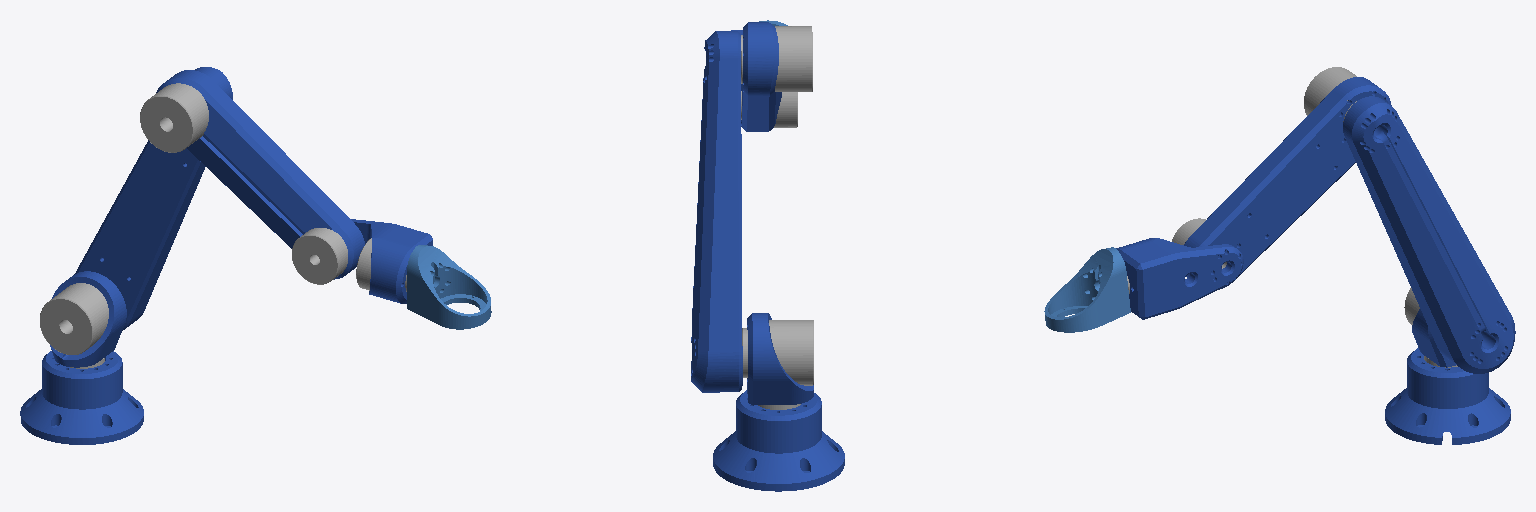
The robot description file, URDF, robot "vhit_robotics_rev_1":
<?xml version="1.0" ?>
<!-- =================================================================================== -->
<!-- |    This document was autogenerated by xacro from vhit_robotics_rev_1.urdf.xacro | -->
<!-- |    EDITING THIS FILE BY HAND IS NOT RECOMMENDED                                 | -->
<!-- =================================================================================== -->
<robot name="vhit_robotics_rev_1">
  <!-- Colors -->
  <material name="blue">
    <color rgba="0.231373 0.380392 0.705882 1"/>
  </material>
  <material name="grey">
    <color rgba="0.701961 0.701961 0.701961 1"/>
  </material>
  <material name="light_blue">
    <color rgba="0.32549 0.529412 0.752941 1"/>
  </material>
  <!-- WORLD FRAME -->
  <link name="world"/>
  <!-- BASE LINK -->
  <link name="base">
    <inertial>
      <origin rpy="0 0 0" xyz="0 0 0"/>
      <mass value="1.0"/>
      <inertia ixx="1.0" ixy="0" ixz="0" iyy="1.0" iyz="0" izz="1.0"/>
    </inertial>
    <!-- Part base -->
    <visual>
      <origin rpy="3.14159 0.0135592 -3.14159" xyz="0 -0.0605 0.03"/>
      <geometry>
        <mesh filename="package://vhit_robot_demo/meshes/base.stl"/>
      </geometry>
      <material name="blue"/>
    </visual>
    <collision>
      <origin rpy="3.14159 0.0135592 -3.14159" xyz="0 -0.0605 0.03"/>
      <geometry>
        <mesh filename="package://vhit_robot_demo/meshes/base.stl"/>
      </geometry>
    </collision>
    <!-- Part elac217_f -->
    <visual>
      <origin rpy="-1.5708 -0.0135592 0" xyz="0 -0.0605 0.03"/>
      <geometry>
        <mesh filename="package://vhit_robot_demo/meshes/elac217_f.stl"/>
      </geometry>
      <material name="grey"/>
    </visual>
    <collision>
      <origin rpy="-1.5708 -0.0135592 0" xyz="0 -0.0605 0.03"/>
      <geometry>
        <mesh filename="package://vhit_robot_demo/meshes/elac217_f.stl"/>
      </geometry>
    </collision>
  </link>
  <!-- SHOULDER LINK -->
  <link name="shoulder">
    <inertial>
      <origin rpy="0 0 0" xyz="0 0 0"/>
      <mass value="0.5"/>
      <inertia ixx="1.0" ixy="0" ixz="0" iyy="1.0" iyz="0" izz="1.0"/>
    </inertial>
    <!-- Part elac217_b -->
    <visual>
      <origin rpy="1.5708 1.5708 0" xyz="0 -0.032 -0.056125"/>
      <geometry>
        <mesh filename="package://vhit_robot_demo/meshes/elac217_b.stl"/>
      </geometry>
      <material name="grey"/>
    </visual>
    <collision>
      <origin rpy="1.5708 1.5708 0" xyz="0 -0.032 -0.056125"/>
      <geometry>
        <mesh filename="package://vhit_robot_demo/meshes/elac217_b.stl"/>
      </geometry>
    </collision>
    <!-- Part shoulder -->
    <visual>
      <origin rpy="-1.5708 -0 -0" xyz="0 -0.032 -0.056125"/>
      <geometry>
        <mesh filename="package://vhit_robot_demo/meshes/shoulder.stl"/>
      </geometry>
      <material name="blue"/>
    </visual>
    <collision>
      <origin rpy="-1.5708 -0 -0" xyz="0 -0.032 -0.056125"/>
      <geometry>
        <mesh filename="package://vhit_robot_demo/meshes/shoulder.stl"/>
      </geometry>
    </collision>
  </link>
  <!-- ARM1 LINK -->
  <link name="arm1">
    <inertial>
      <origin rpy="0 0 0" xyz="0.142779 3.59198e-07 -0.0248996"/>
      <mass value="1.88077"/>
      <inertia ixx="0.00149224" ixy="-1.53387e-07" ixz="-0.000665626" iyy="0.0275846" iyz="2.682e-09" izz="0.0281824"/>
    </inertial>
    <!-- Part arm1 -->
    <visual>
      <origin rpy="-1.5708 0 0" xyz="0.178 0 -0"/>
      <geometry>
        <mesh filename="package://vhit_robot_demo/meshes/arm1.stl"/>
      </geometry>
      <material name="blue"/>
    </visual>
    <collision>
      <origin rpy="-1.5708 0 0" xyz="0.178 0 -0"/>
      <geometry>
        <mesh filename="package://vhit_robot_demo/meshes/arm1.stl"/>
      </geometry>
    </collision>
    <!-- Part arm2 -->
    <visual>
      <origin rpy="-1.5708 -0 3.14159" xyz="0.178 0 -0"/>
      <geometry>
        <mesh filename="package://vhit_robot_demo/meshes/arm2.stl"/>
      </geometry>
      <material name="blue"/>
    </visual>
    <collision>
      <origin rpy="-1.5708 -0 3.14159" xyz="0.178 0 -0"/>
      <geometry>
        <mesh filename="package://vhit_robot_demo/meshes/arm2.stl"/>
      </geometry>
    </collision>
  </link>
  <!-- ELAC217_B LINK -->
  <link name="elac217_b">
    <inertial>
      <origin rpy="0 0 0" xyz="0 0 0"/>
      <mass value="0.3"/>
      <inertia ixx="1.0" ixy="0" ixz="0" iyy="1.0" iyz="0" izz="1.0"/>
    </inertial>
    <!-- Part forearm -->
    <visual>
      <origin rpy="1.5708 -0 0" xyz="0.13 0 -0.0125"/>
      <geometry>
        <mesh filename="package://vhit_robot_demo/meshes/forearm.stl"/>
      </geometry>
      <material name="blue"/>
    </visual>
    <collision>
      <origin rpy="1.5708 -0 0" xyz="0.13 0 -0.0125"/>
      <geometry>
        <mesh filename="package://vhit_robot_demo/meshes/forearm.stl"/>
      </geometry>
    </collision>
    <!-- Part elac214_f -->
    <visual>
      <origin rpy="-0 -0 -1.5708" xyz="0.26 0 -0.0125"/>
      <geometry>
        <mesh filename="package://vhit_robot_demo/meshes/elac214_f.stl"/>
      </geometry>
      <material name="grey"/>
    </visual>
    <collision>
      <origin rpy="-0 -0 -1.5708" xyz="0.26 0 -0.0125"/>
      <geometry>
        <mesh filename="package://vhit_robot_demo/meshes/elac214_f.stl"/>
      </geometry>
    </collision>
    <!-- Part elac217_b_2 -->
    <visual>
      <origin rpy="-0 -0 -0" xyz="-0 -0 -0.0125"/>
      <geometry>
        <mesh filename="package://vhit_robot_demo/meshes/elac217_b.stl"/>
      </geometry>
      <material name="grey"/>
    </visual>
    <collision>
      <origin rpy="-0 -0 -0" xyz="-0 -0 -0.0125"/>
      <geometry>
        <mesh filename="package://vhit_robot_demo/meshes/elac217_b.stl"/>
      </geometry>
    </collision>
  </link>
  <!-- WRIST LINK -->
  <link name="wrist">
    <inertial>
      <origin rpy="0 0 0" xyz="0 0 0"/>
      <mass value="0.2"/>
      <inertia ixx="1.0" ixy="0" ixz="0" iyy="1.0" iyz="0" izz="1.0"/>
    </inertial>
    <!-- Part wrist -->
    <visual>
      <origin rpy="-1.5708 -0 0" xyz="0.13 0 -0"/>
      <geometry>
        <mesh filename="package://vhit_robot_demo/meshes/wrist.stl"/>
      </geometry>
      <material name="blue"/>
    </visual>
    <collision>
      <origin rpy="-1.5708 -0 0" xyz="0.13 0 -0"/>
      <geometry>
        <mesh filename="package://vhit_robot_demo/meshes/wrist.stl"/>
      </geometry>
    </collision>
    <!-- Part elac214_f_2 -->
    <visual>
      <origin rpy="1.5708 -0 1.5708" xyz="0.12 0 0.036125"/>
      <geometry>
        <mesh filename="package://vhit_robot_demo/meshes/elac214_f.stl"/>
      </geometry>
      <material name="grey"/>
    </visual>
    <collision>
      <origin rpy="1.5708 -0 1.5708" xyz="0.12 0 0.036125"/>
      <geometry>
        <mesh filename="package://vhit_robot_demo/meshes/elac214_f.stl"/>
      </geometry>
    </collision>
  </link>
  <!-- FLANGE LINK -->
  <link name="flange">
    <inertial>
      <origin rpy="0 0 0" xyz="0 0 0"/>
      <mass value="0.1"/>
      <inertia ixx="1.0" ixy="0" ixz="0" iyy="1.0" iyz="0" izz="1.0"/>
    </inertial>
    <!-- Part flange -->
    <visual>
      <origin rpy="-1.5708 -0 0" xyz="0 -0.03 -0.065125"/>
      <geometry>
        <mesh filename="package://vhit_robot_demo/meshes/flange.stl"/>
      </geometry>
      <material name="light_blue"/>
    </visual>
    <collision>
      <origin rpy="-1.5708 -0 0" xyz="0 -0.03 -0.065125"/>
      <geometry>
        <mesh filename="package://vhit_robot_demo/meshes/flange.stl"/>
      </geometry>
    </collision>
  </link>
  <!-- JOINTS -->
  <!-- World to base fixed joint -->
  <joint name="world_to_base" type="fixed">
    <parent link="world"/>
    <child link="base"/>
    <origin rpy="1.57 0 0" xyz="0 0 0.15"/>
  </joint>
  <joint name="rotbase" type="revolute">
    <origin rpy="1.5708 -1.03756 0" xyz="-0 -0.048 0.03"/>
    <parent link="base"/>
    <child link="shoulder"/>
    <axis xyz="0 0 1"/>
    <limit effort="10" lower="-3.14159" upper="3.14159" velocity="10"/>
  </joint>
  <joint name="shoulder_joint" type="revolute">
    <origin rpy="-1.5708 1.13806 0" xyz="0 -0.0445 -0.056125"/>
    <parent link="shoulder"/>
    <child link="arm1"/>
    <axis xyz="0 0 1"/>
    <limit effort="10" lower="-3.14159" upper="3.14159" velocity="10"/>
  </joint>
  <joint name="elbow" type="revolute">
    <origin rpy="-3.14159 -0 -1.75984" xyz="0.356 -0 -0"/>
    <parent link="arm1"/>
    <child link="elac217_b"/>
    <axis xyz="0 0 1"/>
    <limit effort="10" lower="-3.14159" upper="3.14159" velocity="10"/>
  </joint>
  <joint name="wrist_pitch" type="revolute">
    <origin rpy="-3.14159 -0 -0.569007" xyz="0.26 0 -0.0005"/>
    <parent link="elac217_b"/>
    <child link="wrist"/>
    <axis xyz="0 0 1"/>
    <limit effort="10" lower="-3.14159" upper="3.14159" velocity="10"/>
  </joint>
  <joint name="wrist_roll" type="revolute">
    <origin rpy="1.5708 -1.45886 -1.5708" xyz="0.132 0 0.036125"/>
    <parent link="wrist"/>
    <child link="flange"/>
    <axis xyz="0 0 1"/>
    <limit effort="10" lower="-3.14159" upper="3.14159" velocity="10"/>
  </joint>
  <gazebo>
    <plugin filename="libgz_ros2_control-system.so" name="gz_ros2_control::GazeboSimROS2ControlPlugin">
      <parameters>
        /home/riky/vhit-robot-demo/install/vhit_robot_demo/share/vhit_robot_demo/config/vhit_robotics_rev_1_controllers.yaml
      </parameters>
    </plugin>
  </gazebo>
</robot>

--- Render facts (derived) ---
3 views of the same robot in one strip: view 1: azimuth 30°, elevation 25°; view 2: azimuth 150°, elevation 25°; view 3: azimuth 270°, elevation 25° (orthographic).
Robot: vhit_robotics_rev_1 — 7 links, 6 joints (5 revolute, 1 fixed); root link world; default pose: every joint at zero.
Visible links, largest first — view 1: elac217_b, arm1, base, shoulder, flange, wrist; view 2: arm1, base, elac217_b, shoulder; view 3: arm1, elac217_b, base, wrist, flange, shoulder.
Link boxes in pixels (left/top/right/bottom): elac217_b: left=140, top=70, right=364, bottom=284; arm1: left=74, top=67, right=232, bottom=330; base: left=20, top=351, right=143, bottom=444; shoulder: left=40, top=271, right=126, bottom=367; flange: left=407, top=245, right=491, bottom=329; wrist: left=351, top=219, right=432, bottom=303; arm1: left=691, top=31, right=742, bottom=392; base: left=713, top=390, right=844, bottom=491; elac217_b: left=741, top=22, right=812, bottom=131; shoulder: left=742, top=313, right=813, bottom=404; arm1: left=1343, top=96, right=1515, bottom=373; elac217_b: left=1172, top=67, right=1391, bottom=289; base: left=1385, top=348, right=1510, bottom=444; wrist: left=1116, top=238, right=1243, bottom=319; flange: left=1044, top=247, right=1130, bottom=332; shoulder: left=1404, top=288, right=1455, bottom=367.
Size in the robot's own frame: 0.4128 by 0.5998 by 0.517 metres.
Meshes: 10 distinct files referenced, 12 mesh visuals loaded (10 binary STL).
